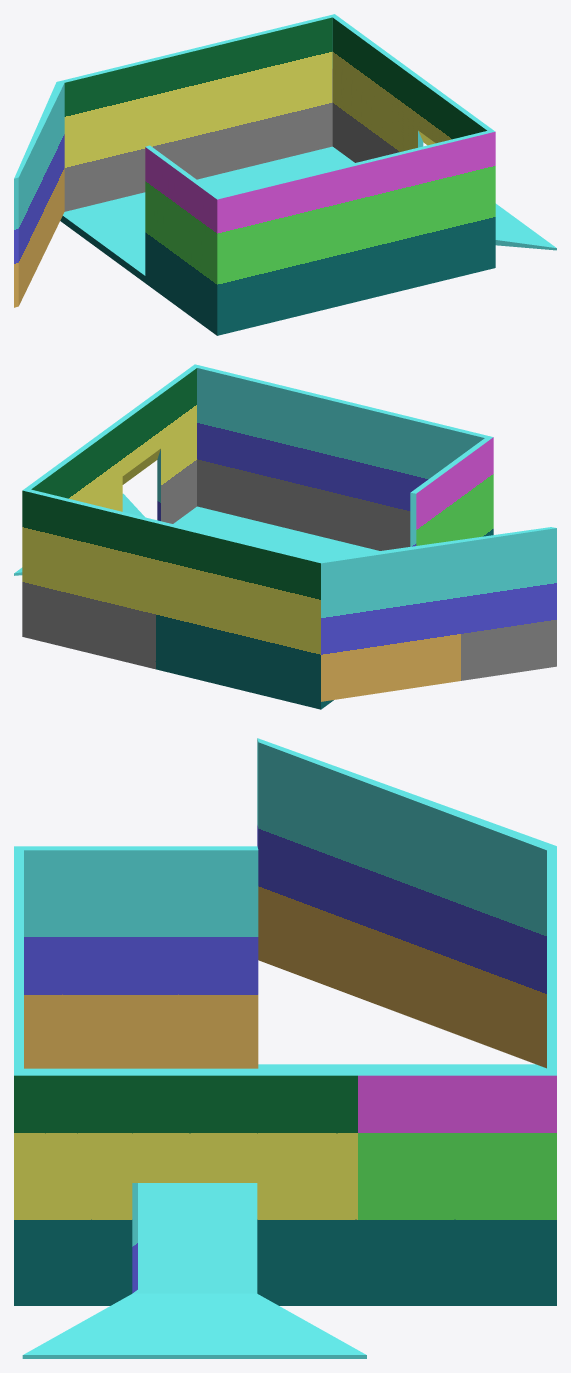
Rendered from Shed.glb.
3 views of the same model, one above another, from view 1: azimuth 30°, elevation 25°; view 2: azimuth 150°, elevation 25°; view 3: azimuth 270°, elevation 25° (orthographic). The views are drawn at different scales.
Visible parts, largest first — view 1: Cube; view 2: Cube; view 3: Cube.
Boxes of the visible parts, x1,y1,x2,y2 form: Cube: (14, 14, 556, 335); Cube: (14, 364, 556, 709); Cube: (14, 738, 556, 1358).
Size of the model in its own units: 34.03 by 9.36 by 20.
Materials: 1 (1 with a texture image).
